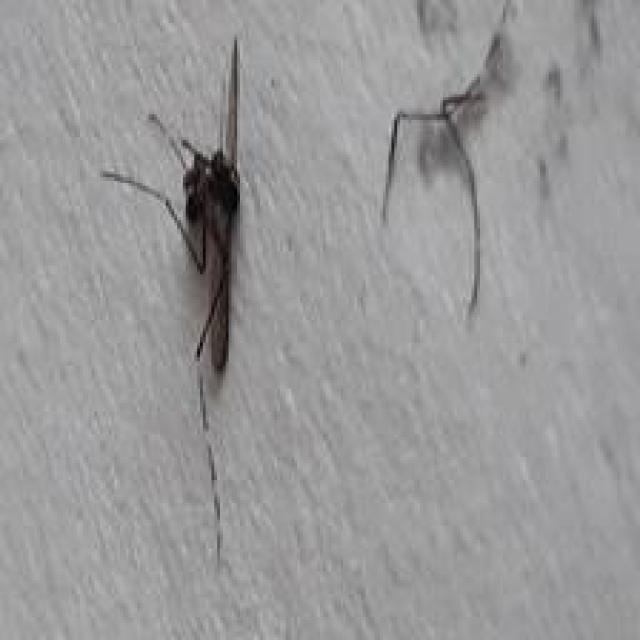Aedes albopictus: (100, 34, 251, 572)
